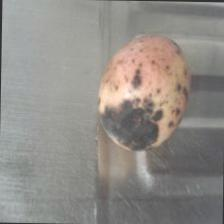Mango Overripe: (94, 30, 193, 152)
